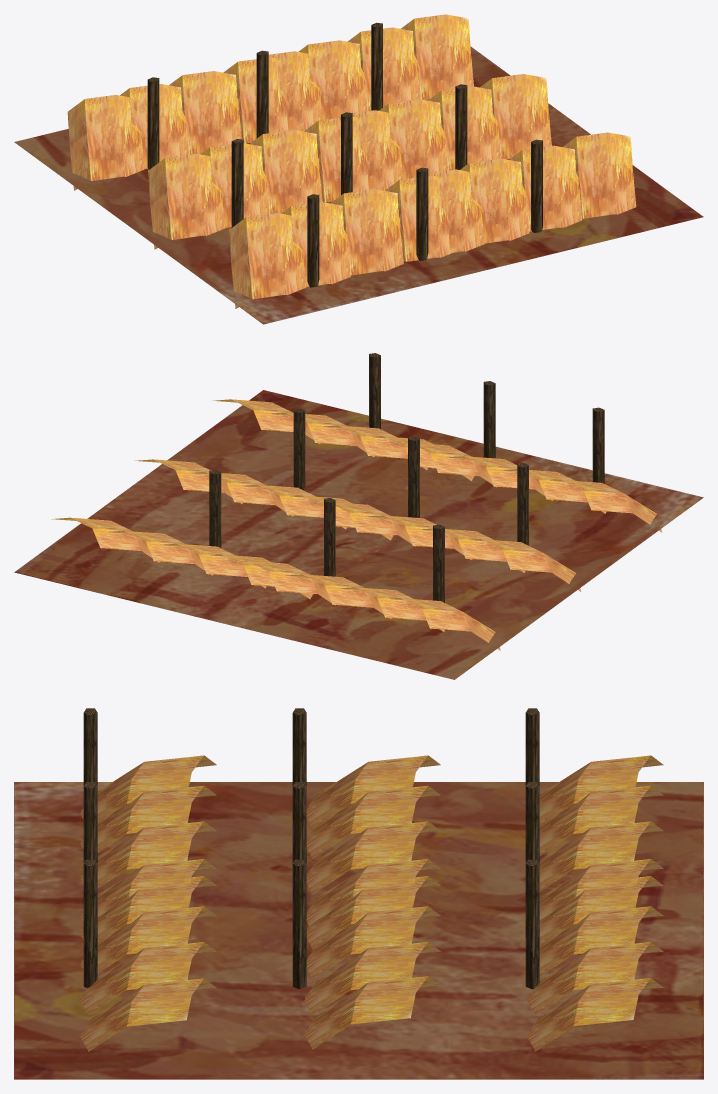
The model's file is campo farm.FBX.
3 views of the same model, one above another, from view 1: azimuth 30°, elevation 25°; view 2: azimuth 150°, elevation 25°; view 3: azimuth 270°, elevation 25° (orthographic). The views are drawn at different scales.
Parts seen in each view (by area): view 1: Plane013; view 2: Plane013; view 3: Plane013.
Part boxes in pixels (x1=…): Plane013: x1=14, y1=14, x2=703, y2=324; Plane013: x1=14, y1=353, x2=703, y2=679; Plane013: x1=14, y1=708, x2=703, y2=1079.
Size of the model in its own units: 138 by 30.14 by 135.
3 materials, 3 textured.
